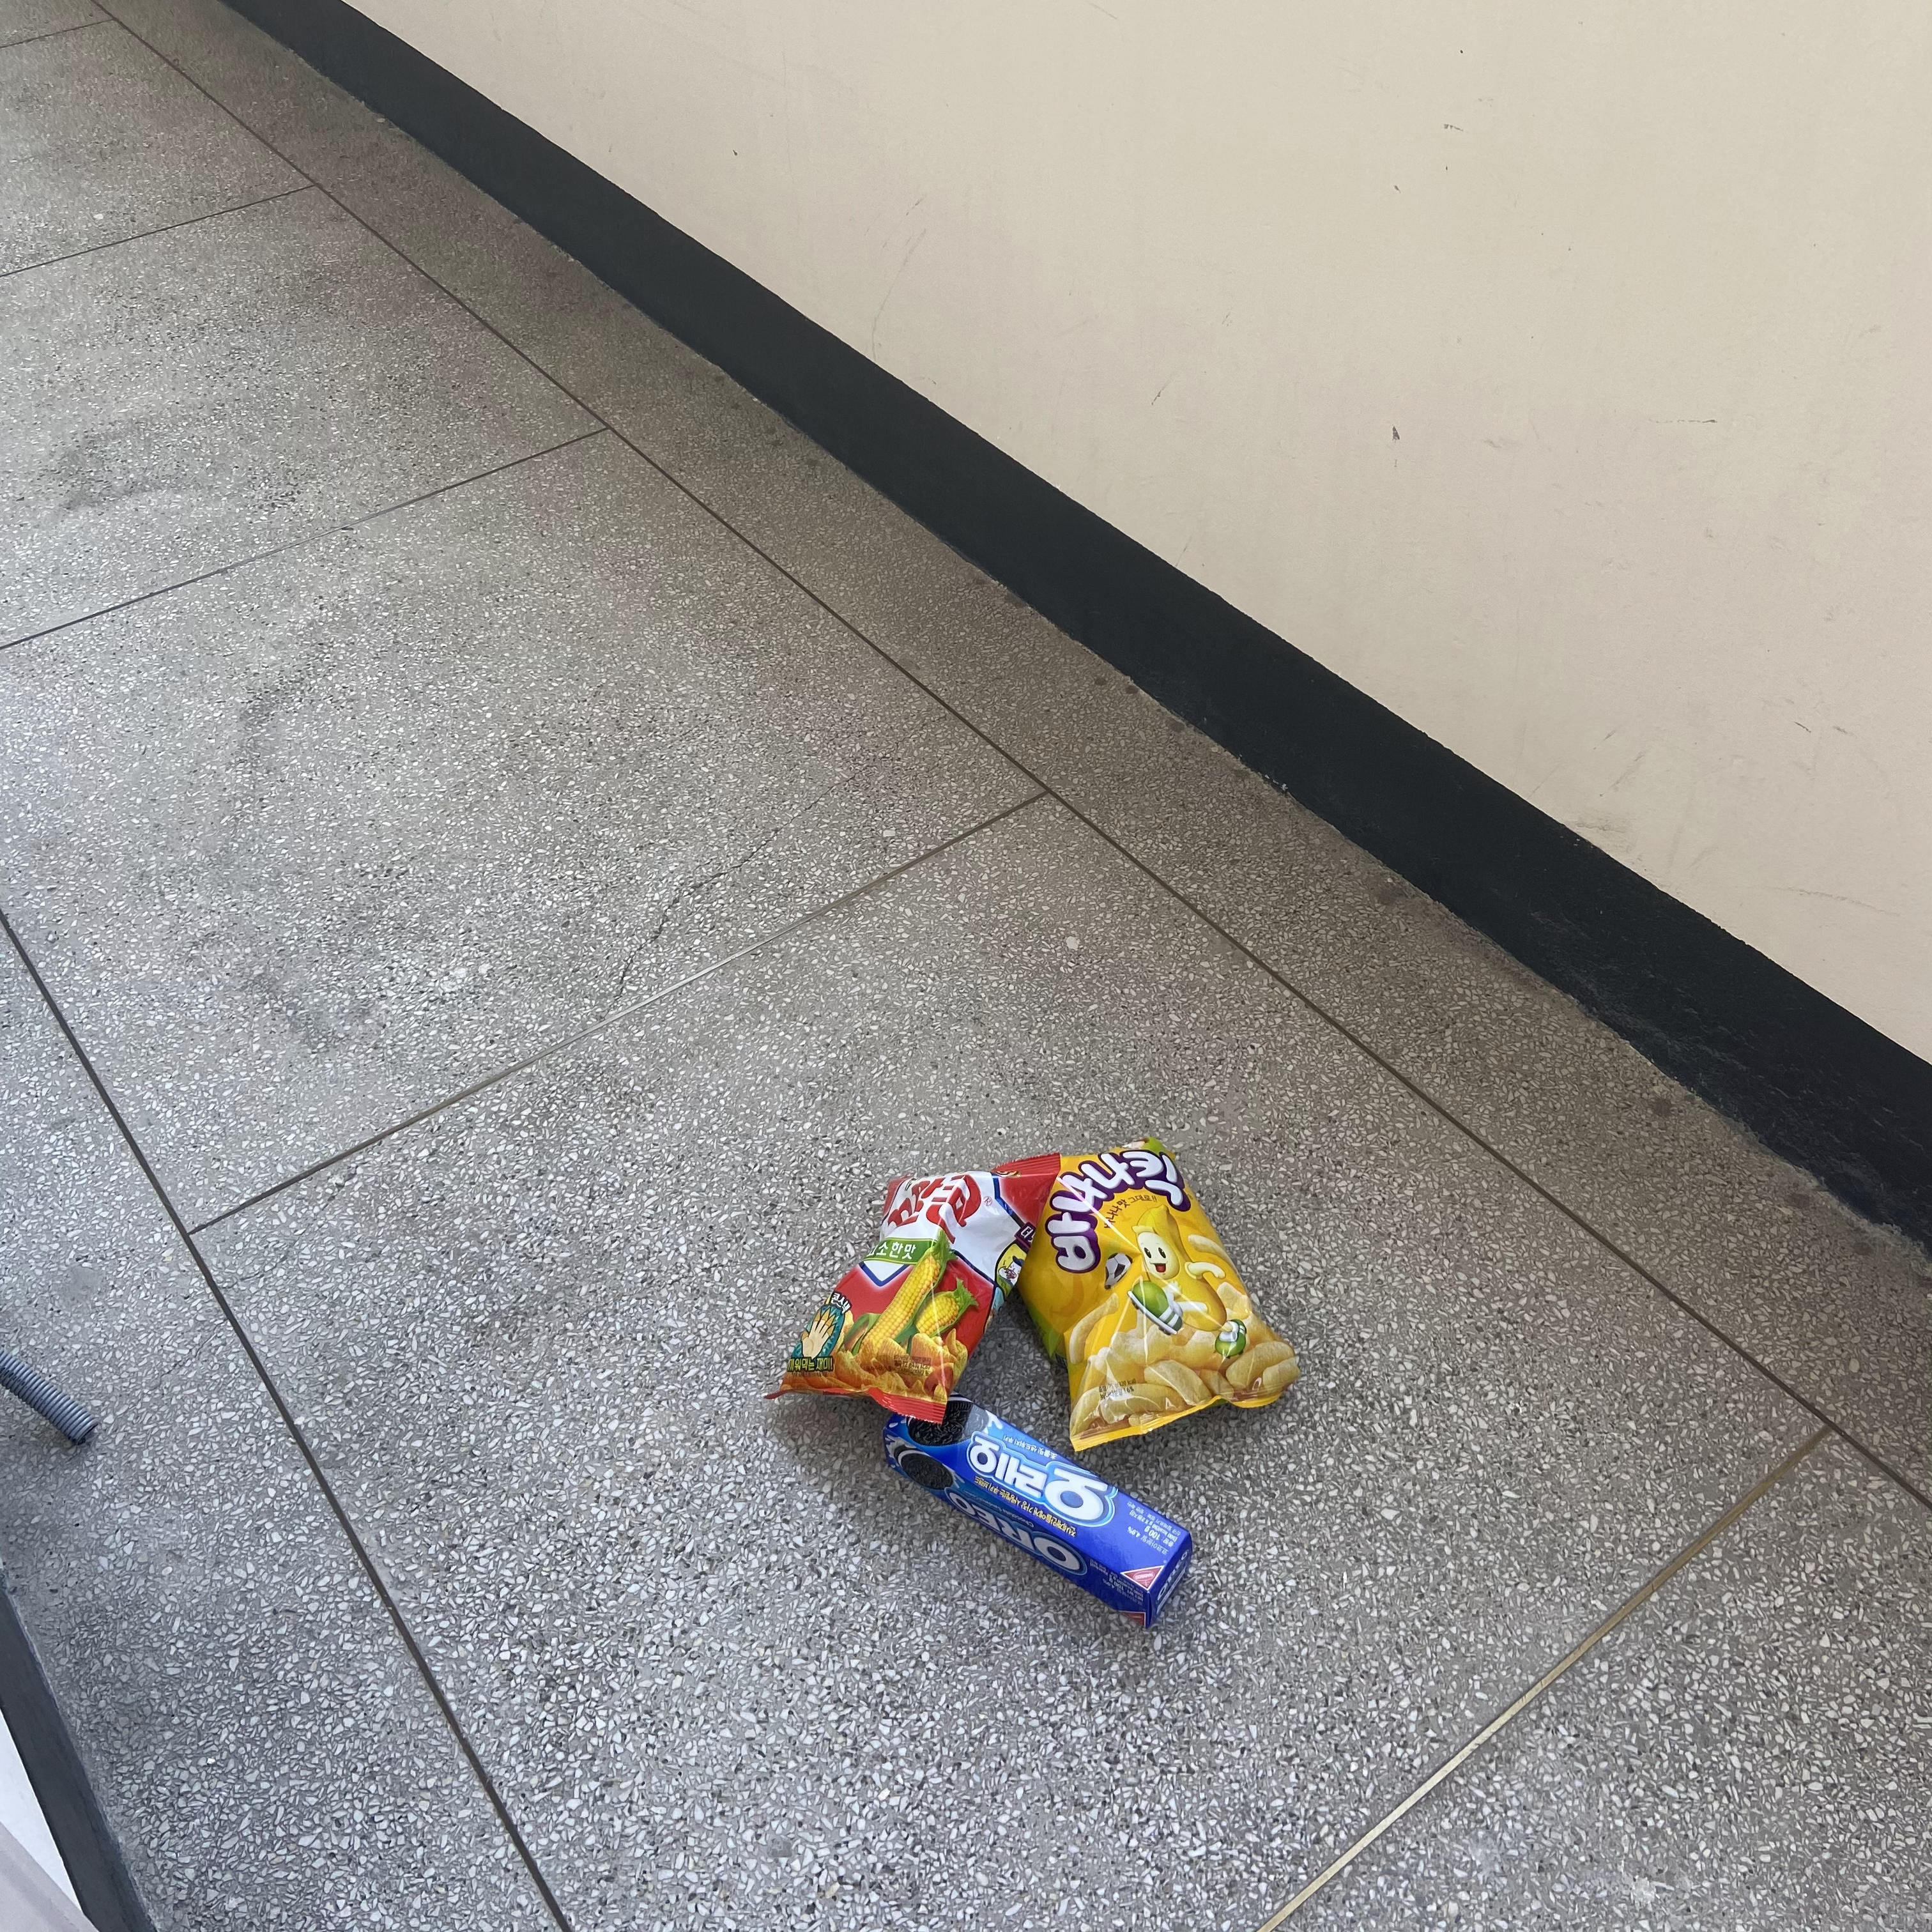banana: (991, 1132, 1316, 1456)
ggoggalcon: (757, 1152, 1072, 1431)
oreo: (867, 1380, 1223, 1644)
